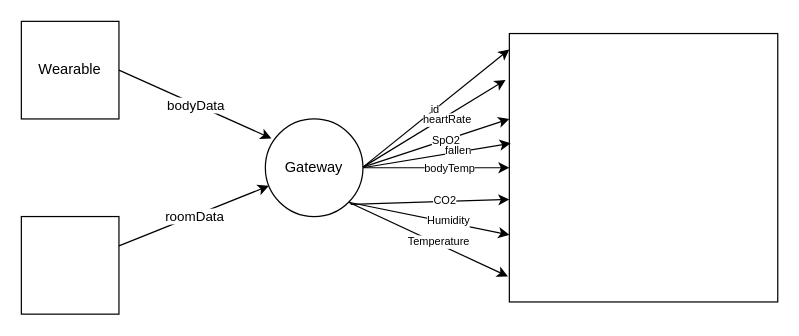
Some shapes in this 799 by 336 pixel diagram are drawn without their labels. The shapes that lost their labels are listed below. From the top down, each one's centre as x and y in pixels, then its label:
the point at 643,167: KNX Busankoppler
the point at 69,264: SCD30
